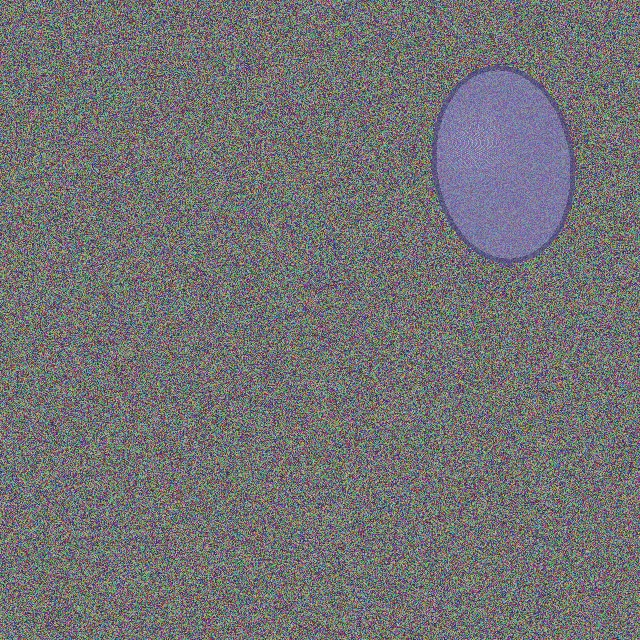lens: (434, 68, 572, 260)
